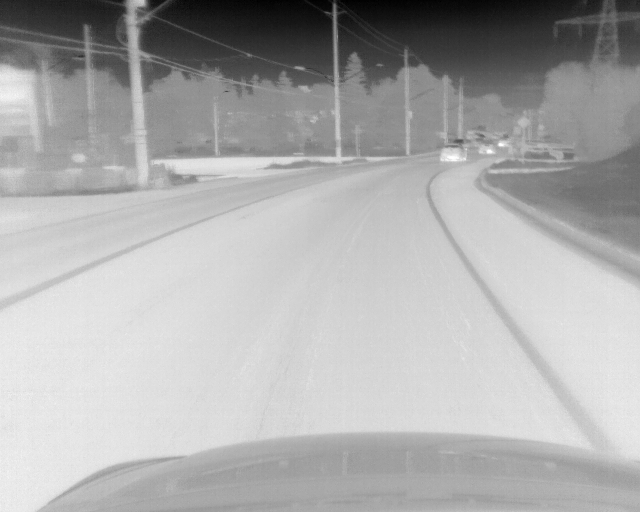car: (438, 142, 466, 162), (478, 141, 494, 155), (454, 138, 471, 150), (497, 138, 509, 147)
